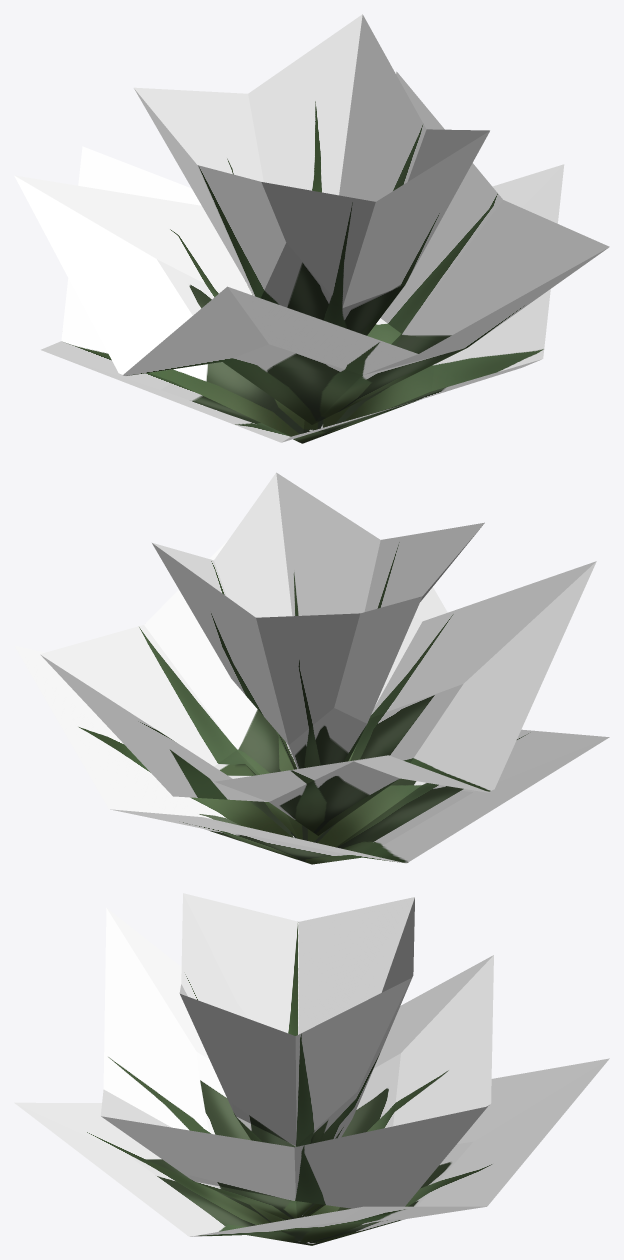
File: grass2.fbx
The picture shows the model from 3 angles, top to bottom: view 1: azimuth 30°, elevation 25°; view 2: azimuth 150°, elevation 25°; view 3: azimuth 270°, elevation 25°; orthographic projection. The views are drawn at different scales.
Parts seen in each view (by area): view 1: Plane.001; view 2: Plane.001; view 3: Plane.001.
Part boxes in pixels (x1,y1,x2,y2): Plane.001: (14,14,609,443); Plane.001: (14,472,609,864); Plane.001: (14,893,609,1245).
Bounding box in the file's own units: 567 × 334 × 567.
